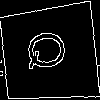Q: (24, 28, 75, 72)
